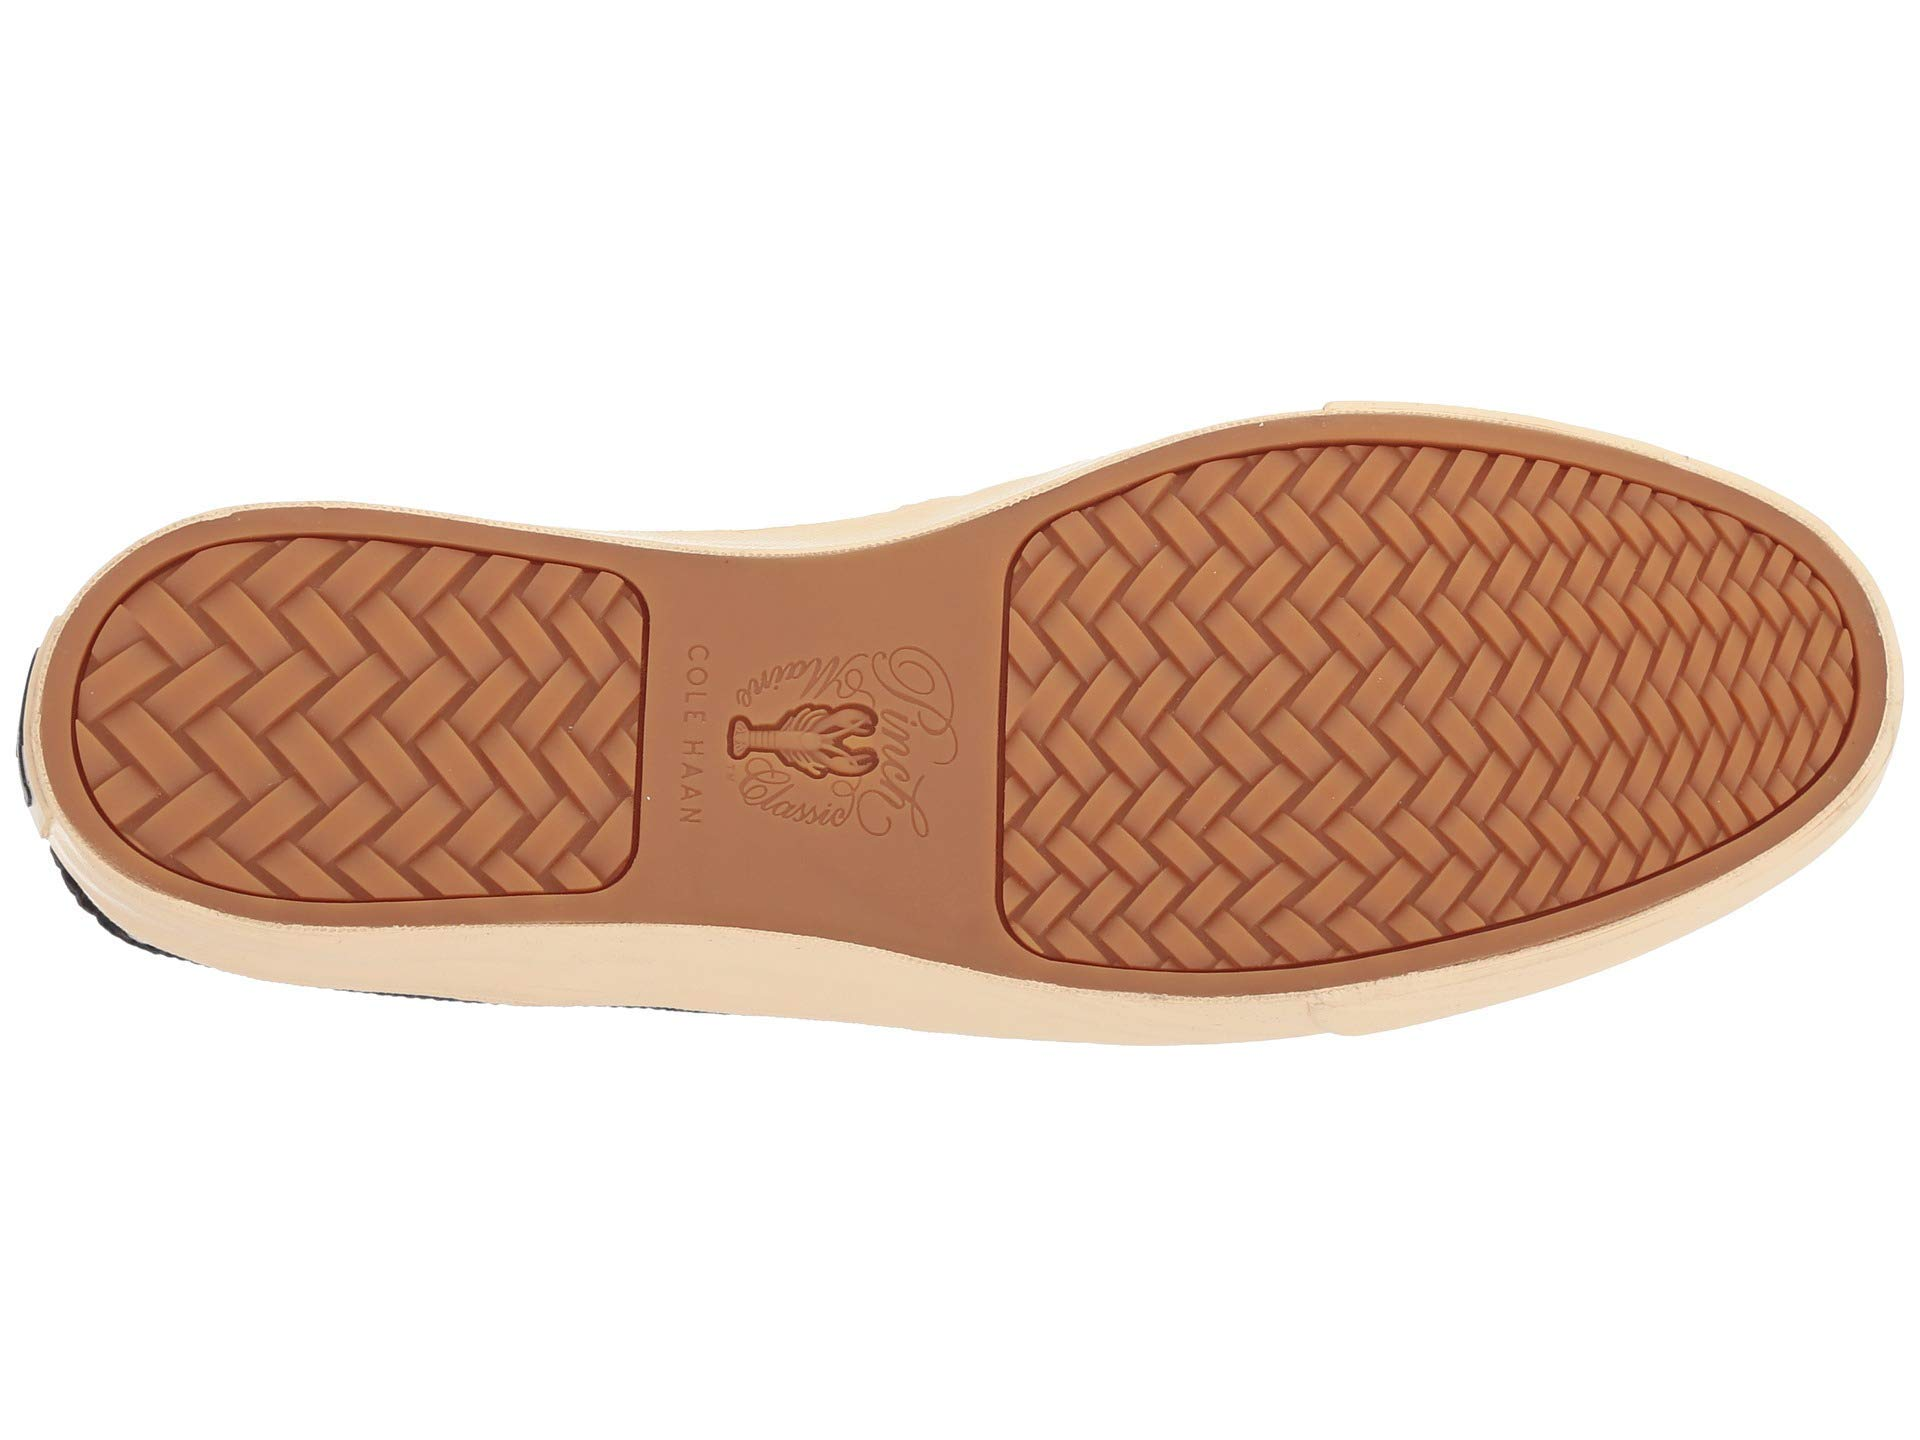quad: (1123, 552, 1595, 888), (200, 601, 553, 892)
